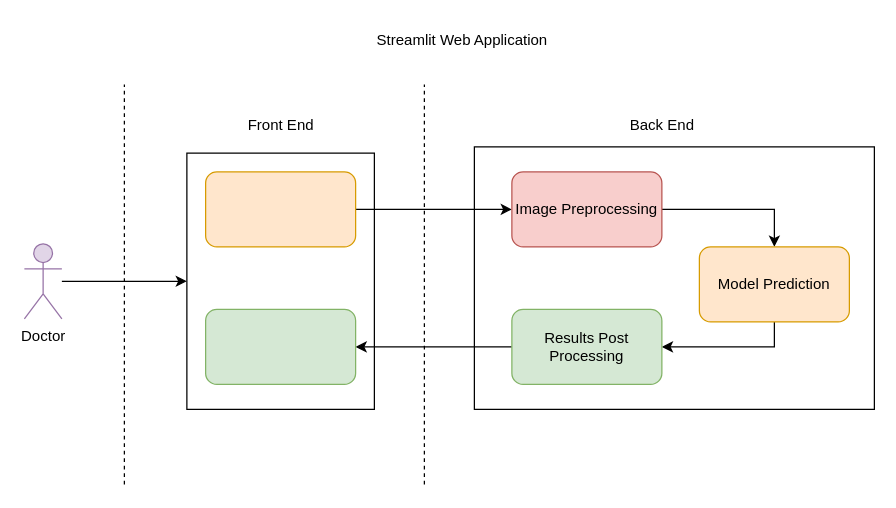
This 896x508 diagram has some shape labels left out. Each missing label, with the centre of its shape:
"Results" belongs at point (280, 346).
"Upload Image" belongs at point (280, 209).
